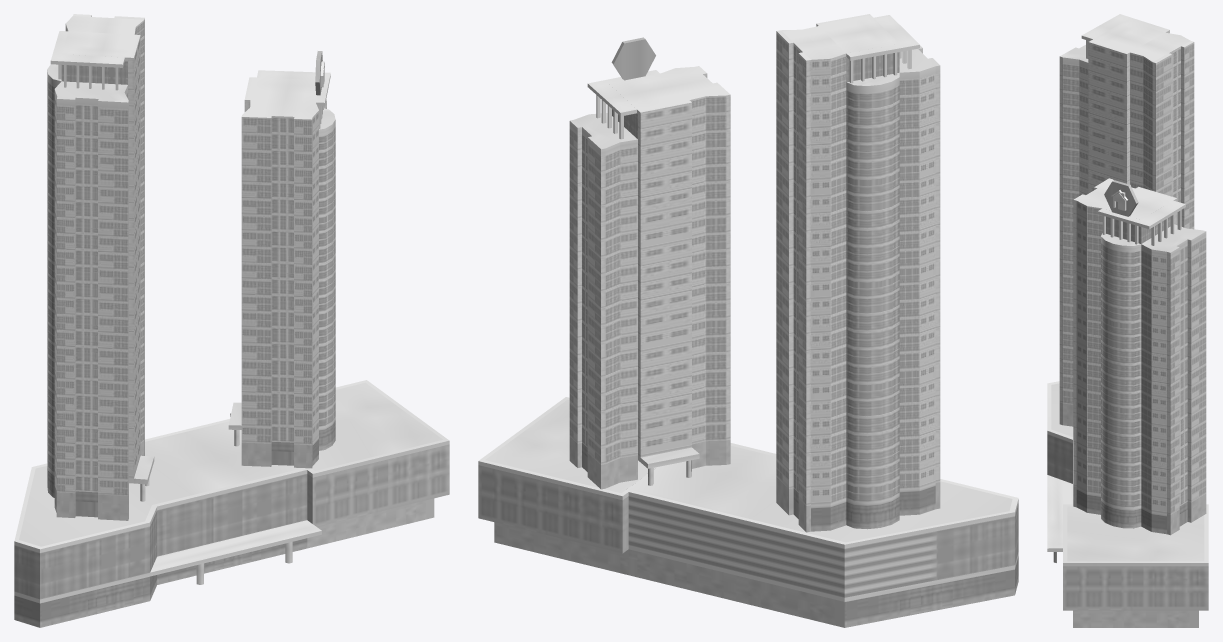
3 renders of one model, left to right at view 1: azimuth 30°, elevation 25°; view 2: azimuth 150°, elevation 25°; view 3: azimuth 270°, elevation 25°, orthographic. The views are drawn at different scales.
Visible parts, largest first — view 1: 5cca6f66d664e64b64189de3; view 2: 5cca6f66d664e64b64189de3; view 3: 5cca6f66d664e64b64189de3.
Boxes of the visible parts, x1,y1,x2,y2 form: 5cca6f66d664e64b64189de3: (14,14,449,627); 5cca6f66d664e64b64189de3: (478,14,1018,627); 5cca6f66d664e64b64189de3: (1047,14,1208,627).
Bounding box in the file's own units: 102 × 120 × 37.98.
1 material, 1 textured.
